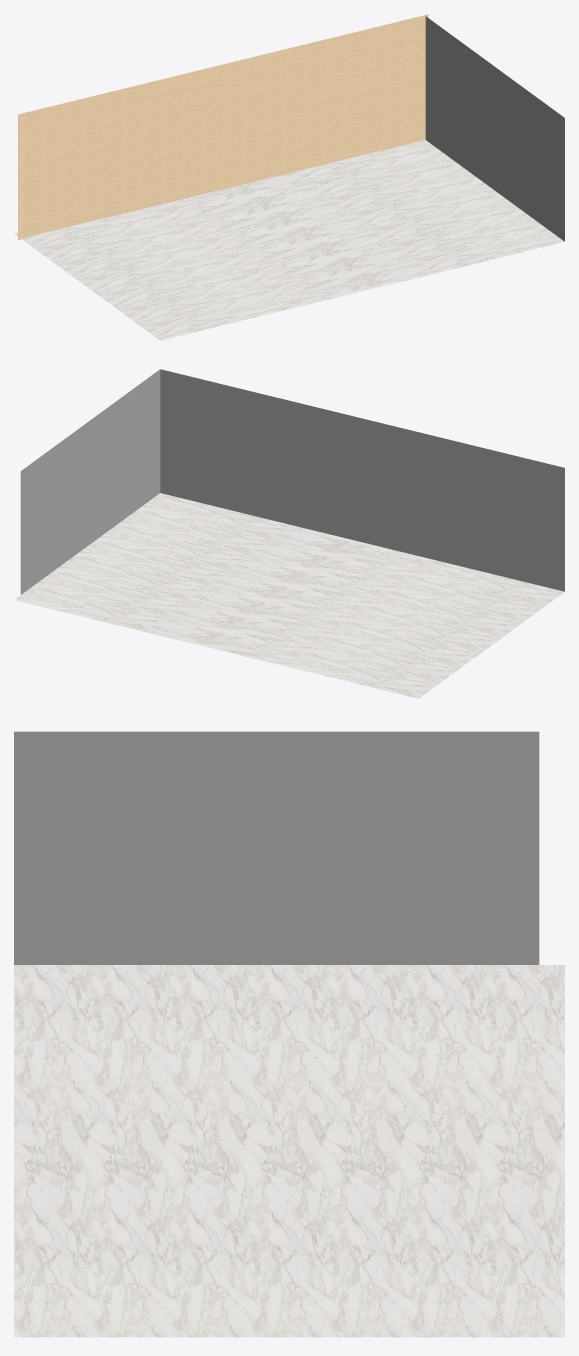
Rendered from hall.glb.
3 views of the same model, one above another, from view 1: azimuth 30°, elevation 25°; view 2: azimuth 150°, elevation 25°; view 3: azimuth 270°, elevation 25° (orthographic). The views are drawn at different scales.
Visible parts, largest first — view 1: Floor, background, Wall; view 2: Wall, Floor; view 3: Floor, Wall.
Boxes of the visible parts, x1=… form: Floor: x1=14, y1=140, x2=564, y2=340; background: x1=18, y1=14, x2=428, y2=240; Wall: x1=425, y1=16, x2=564, y2=241; Wall: x1=20, y1=369, x2=564, y2=594; Floor: x1=14, y1=493, x2=564, y2=698; Floor: x1=14, y1=965, x2=564, y2=1337; Wall: x1=14, y1=731, x2=539, y2=964.
Bounding box in the file's own units: 32.84 × 9.62 × 20.26.
Materials: 3 (2 with a texture image).
